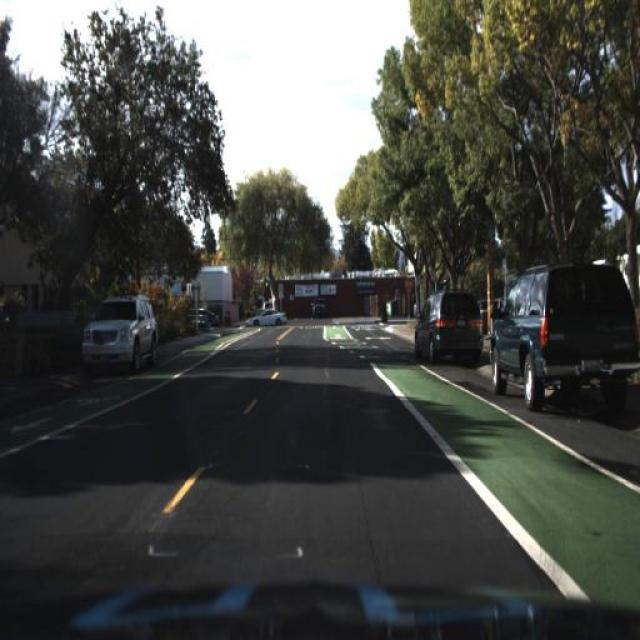car: (489, 251, 637, 413), (411, 280, 492, 370), (78, 290, 160, 378), (246, 304, 286, 332), (246, 302, 285, 326), (308, 291, 329, 324), (308, 293, 329, 319)
